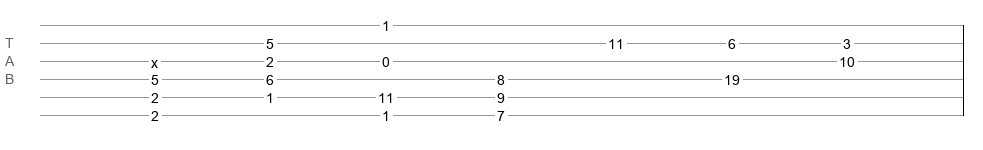0: (382, 54, 390, 64)
1: (266, 90, 274, 100), (382, 108, 390, 118), (382, 18, 390, 28)
10: (839, 54, 855, 64)
11: (378, 90, 394, 100), (608, 36, 624, 46)
19: (724, 72, 740, 82)
2: (151, 90, 159, 100), (151, 108, 159, 118), (266, 54, 274, 64)
3: (843, 36, 851, 46)
5: (151, 72, 159, 82), (266, 36, 274, 46)
6: (266, 72, 274, 82), (728, 36, 736, 46)
7: (497, 108, 505, 118)
8: (497, 72, 505, 82)
9: (497, 90, 505, 100)
x: (151, 55, 158, 63)
